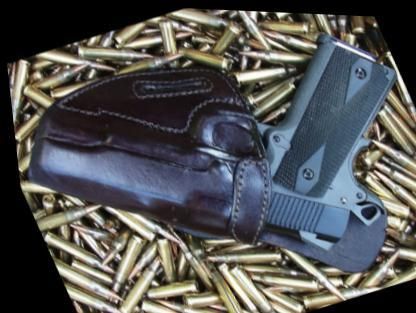pistol: (0, 0, 415, 311)
